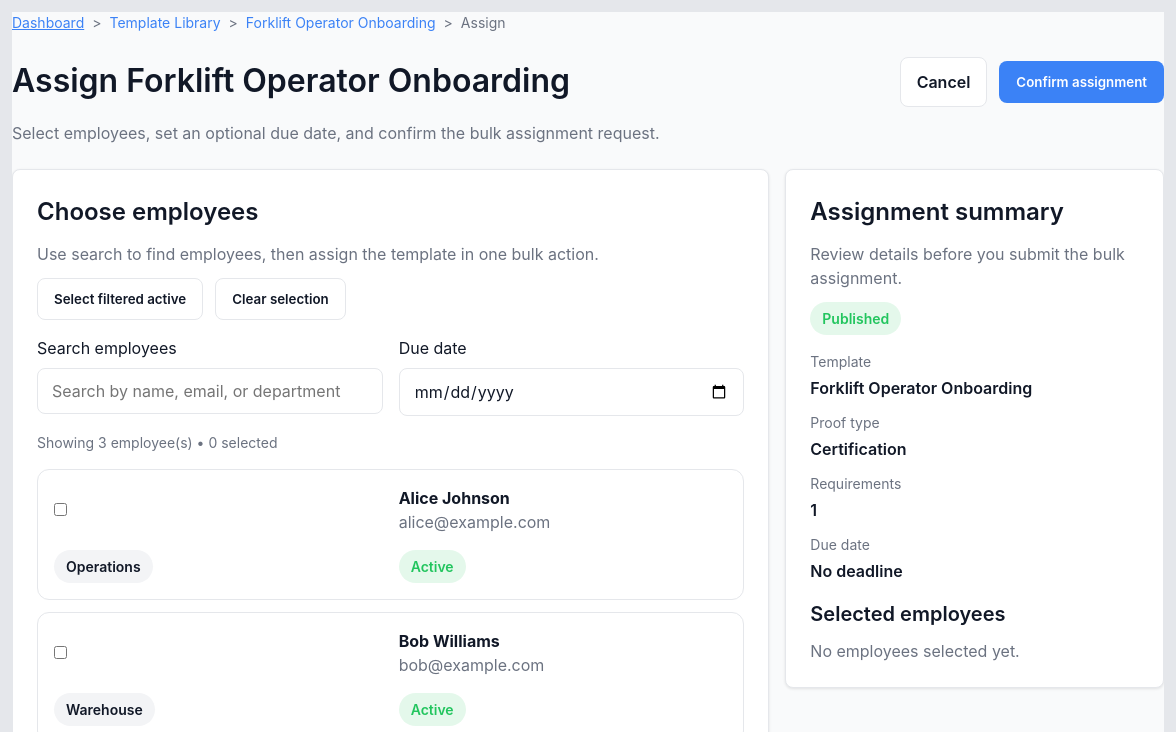
Test: TemplateAssignPage › selects employees with checkboxes
The width and height of the screenshot is (1176, 732).
expect the text "Alice Johnson" is shown: met, box [399, 488, 510, 508]
Click the checkbox labelled "Alice Johnson alice@example.com Operations Active": point(60, 510) [54, 503, 67, 516]
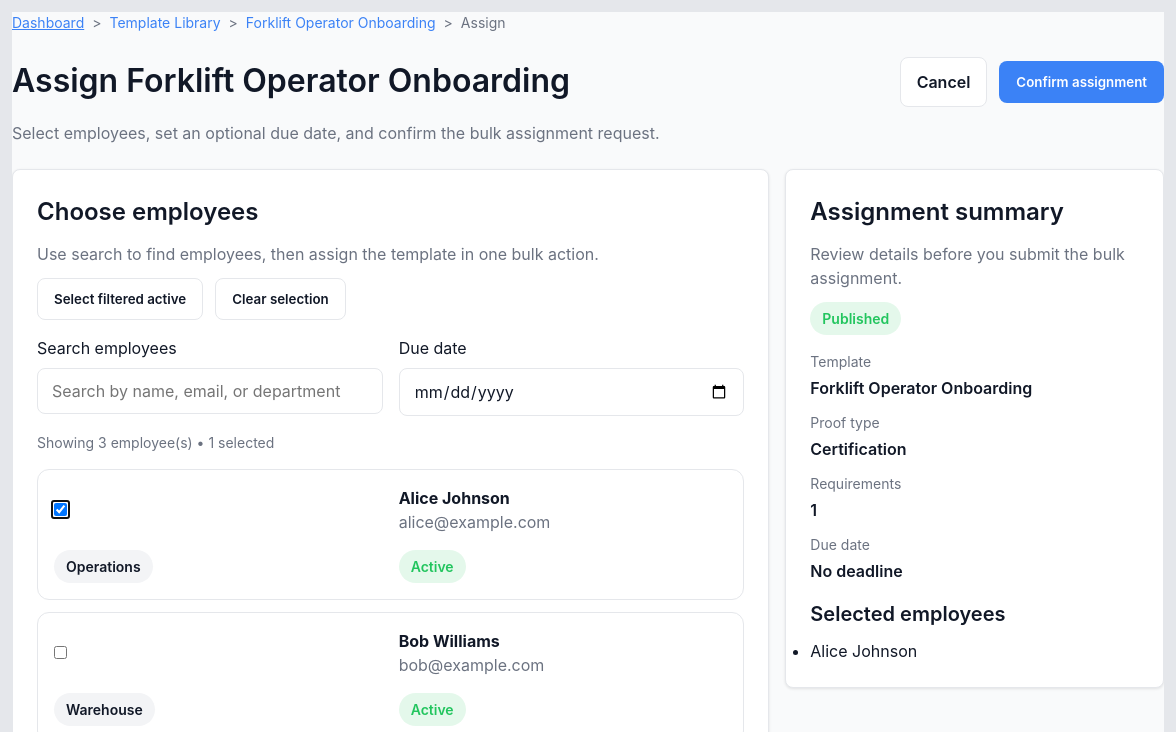
expect the text "Showing 3 employee(s) • 1 selected" is shown: met, box [37, 434, 274, 451]
